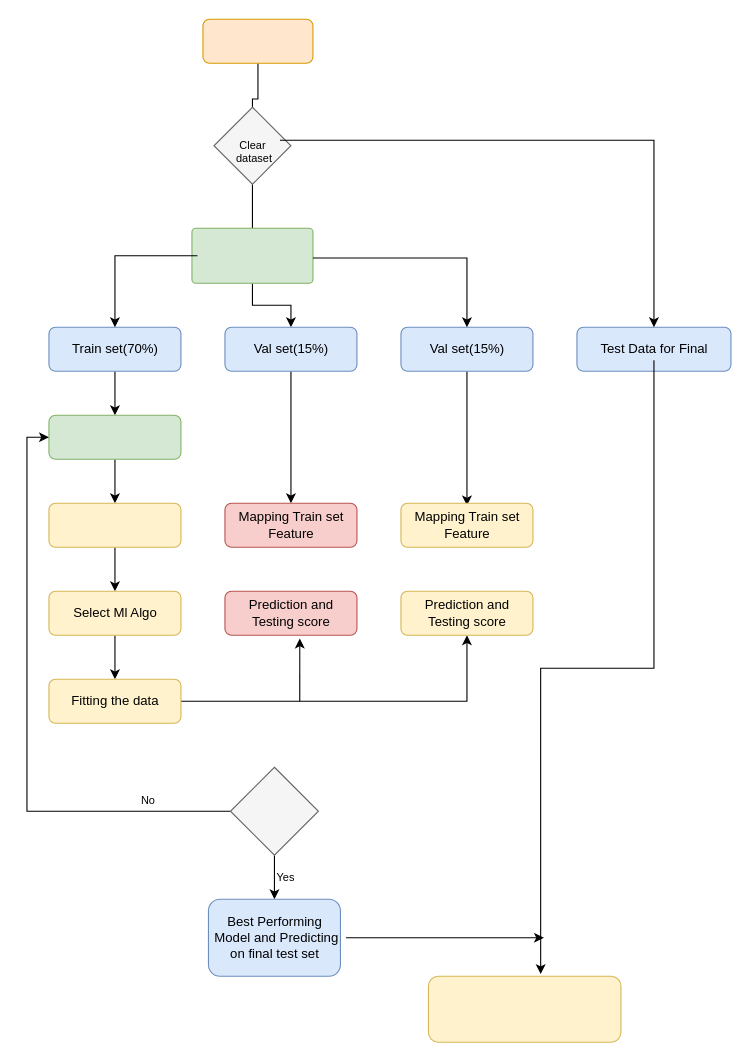
Image size: 750x1062. Some labels were removed from this diagram. Each missing label, with the box of its shape:
* making delay day predicion * Putting it in Aging Bucket: (427, 975, 621, 1042)
DataSet: (202, 18, 313, 63)
EDA and Data vis.: (48, 414, 181, 459)
Feature Selection: (48, 502, 181, 547)
Good Score: (229, 766, 318, 855)
preprocessing: (191, 227, 313, 283)
